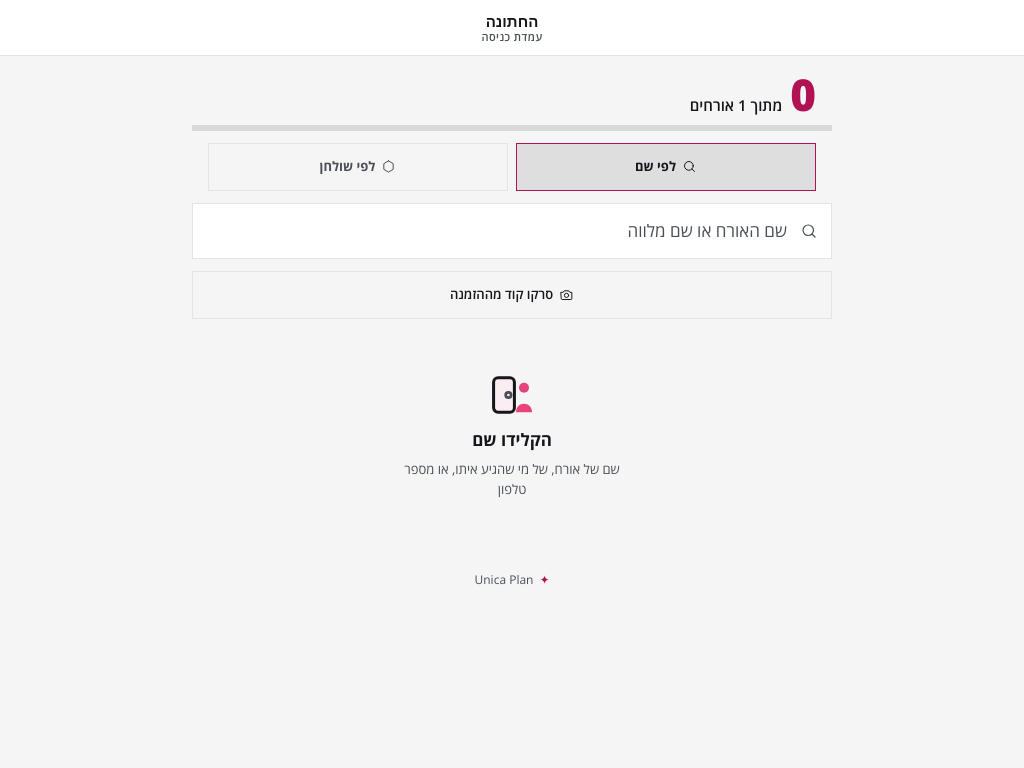
Scenario: RG4 — the greeter is told what will and will not be sent › marking closed by the host: the waiting mark says it waits for that, not for the signal
The width and height of the screenshot is (1024, 768).
In the search field named "חיפוש אורח": (512, 231) left=192, top=203, right=832, bottom=259, type "יעל"
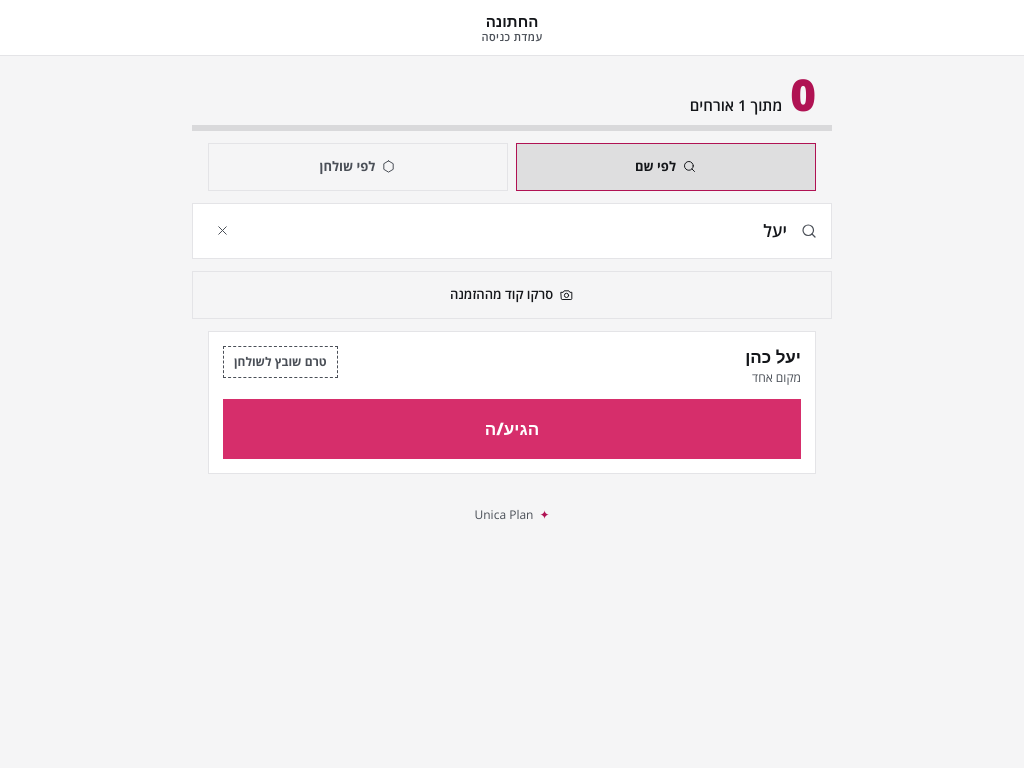
Click the button "הגיע/ה": (512, 429) left=223, top=399, right=801, bottom=459
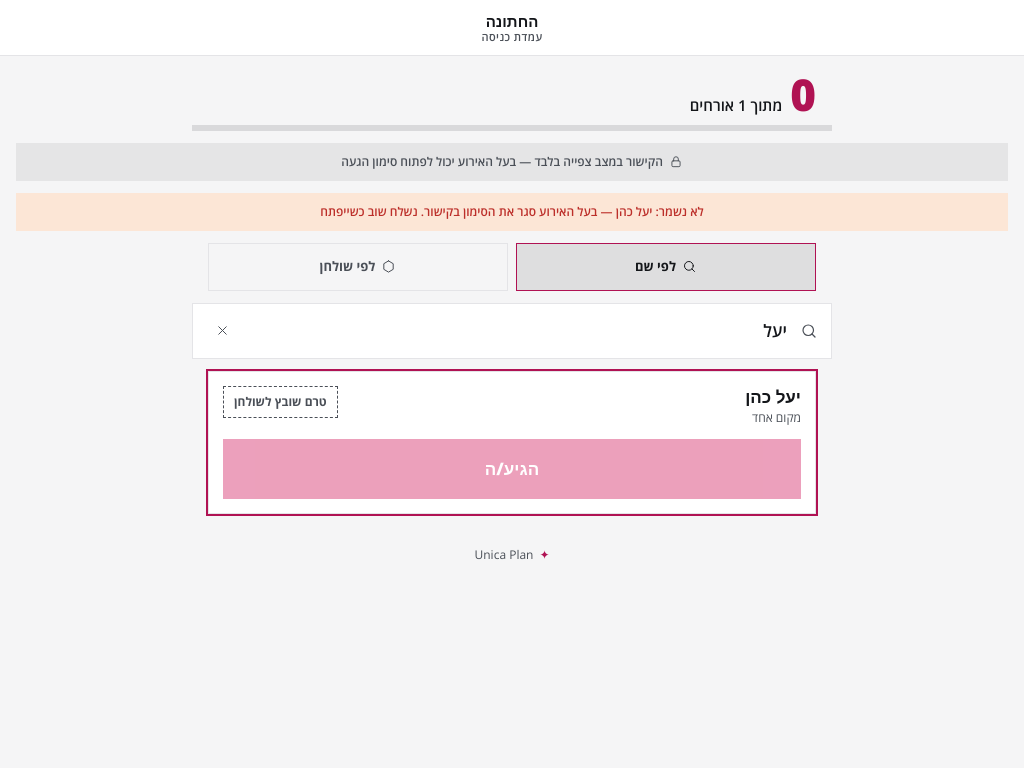
Expected: the text "לא נשמר: יעל כהן — בעל האירוע סגר את הסימון בקישור. נשלח שוב כשייפתח" is shown, left=16, top=193, right=1008, bottom=231
